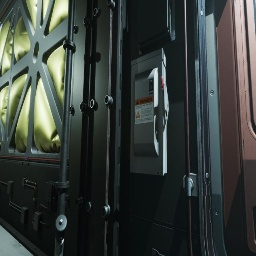SafetySwitchPanel ,: (130, 48, 169, 176)
